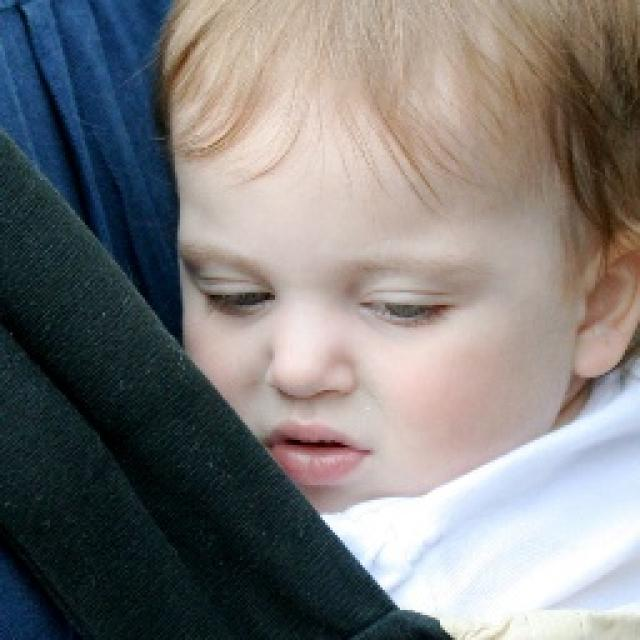earlobe: (573, 229, 640, 380)
